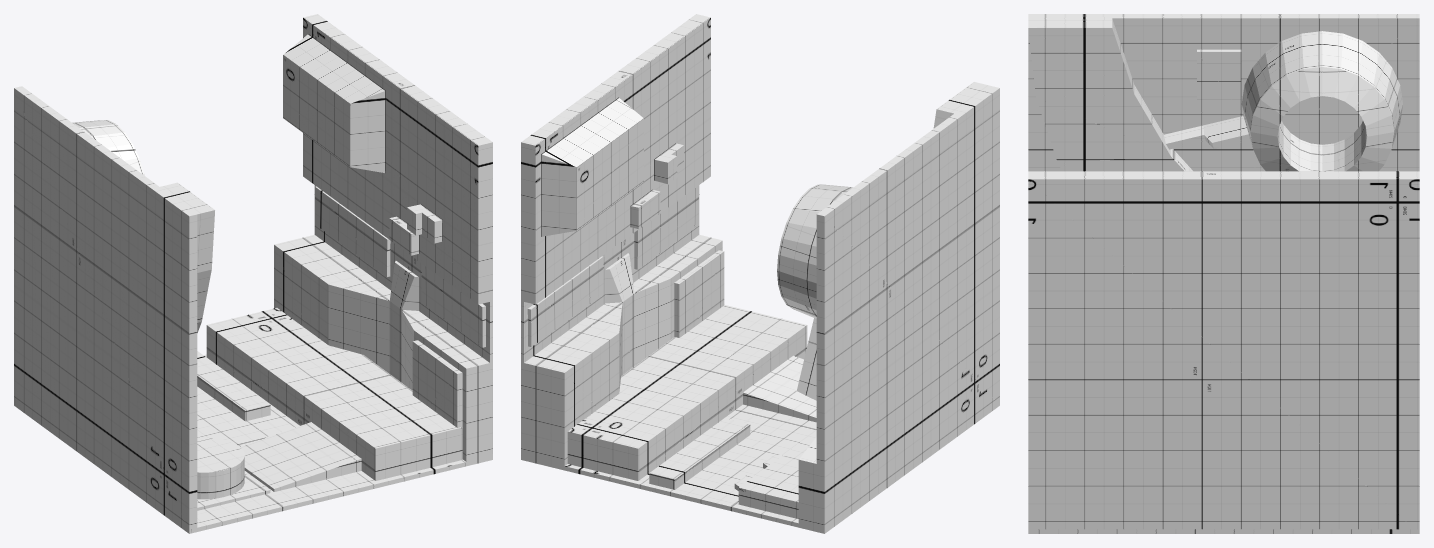
Rendered from Level2.fbx.
3 views of the same model, side by side, from view 1: azimuth 30°, elevation 25°; view 2: azimuth 150°, elevation 25°; view 3: azimuth 270°, elevation 25° (orthographic). The views are drawn at different scales.
Visible parts, largest first — view 1: 2.001; view 2: 2.001; view 3: 2.001.
Boxes of the visible parts, <box> form: 2.001: <box>14,14,492,533</box>; 2.001: <box>521,14,999,533</box>; 2.001: <box>1028,14,1419,533</box>.
Bounding box in the file's own units: 7500 × 7500 × 7500.
